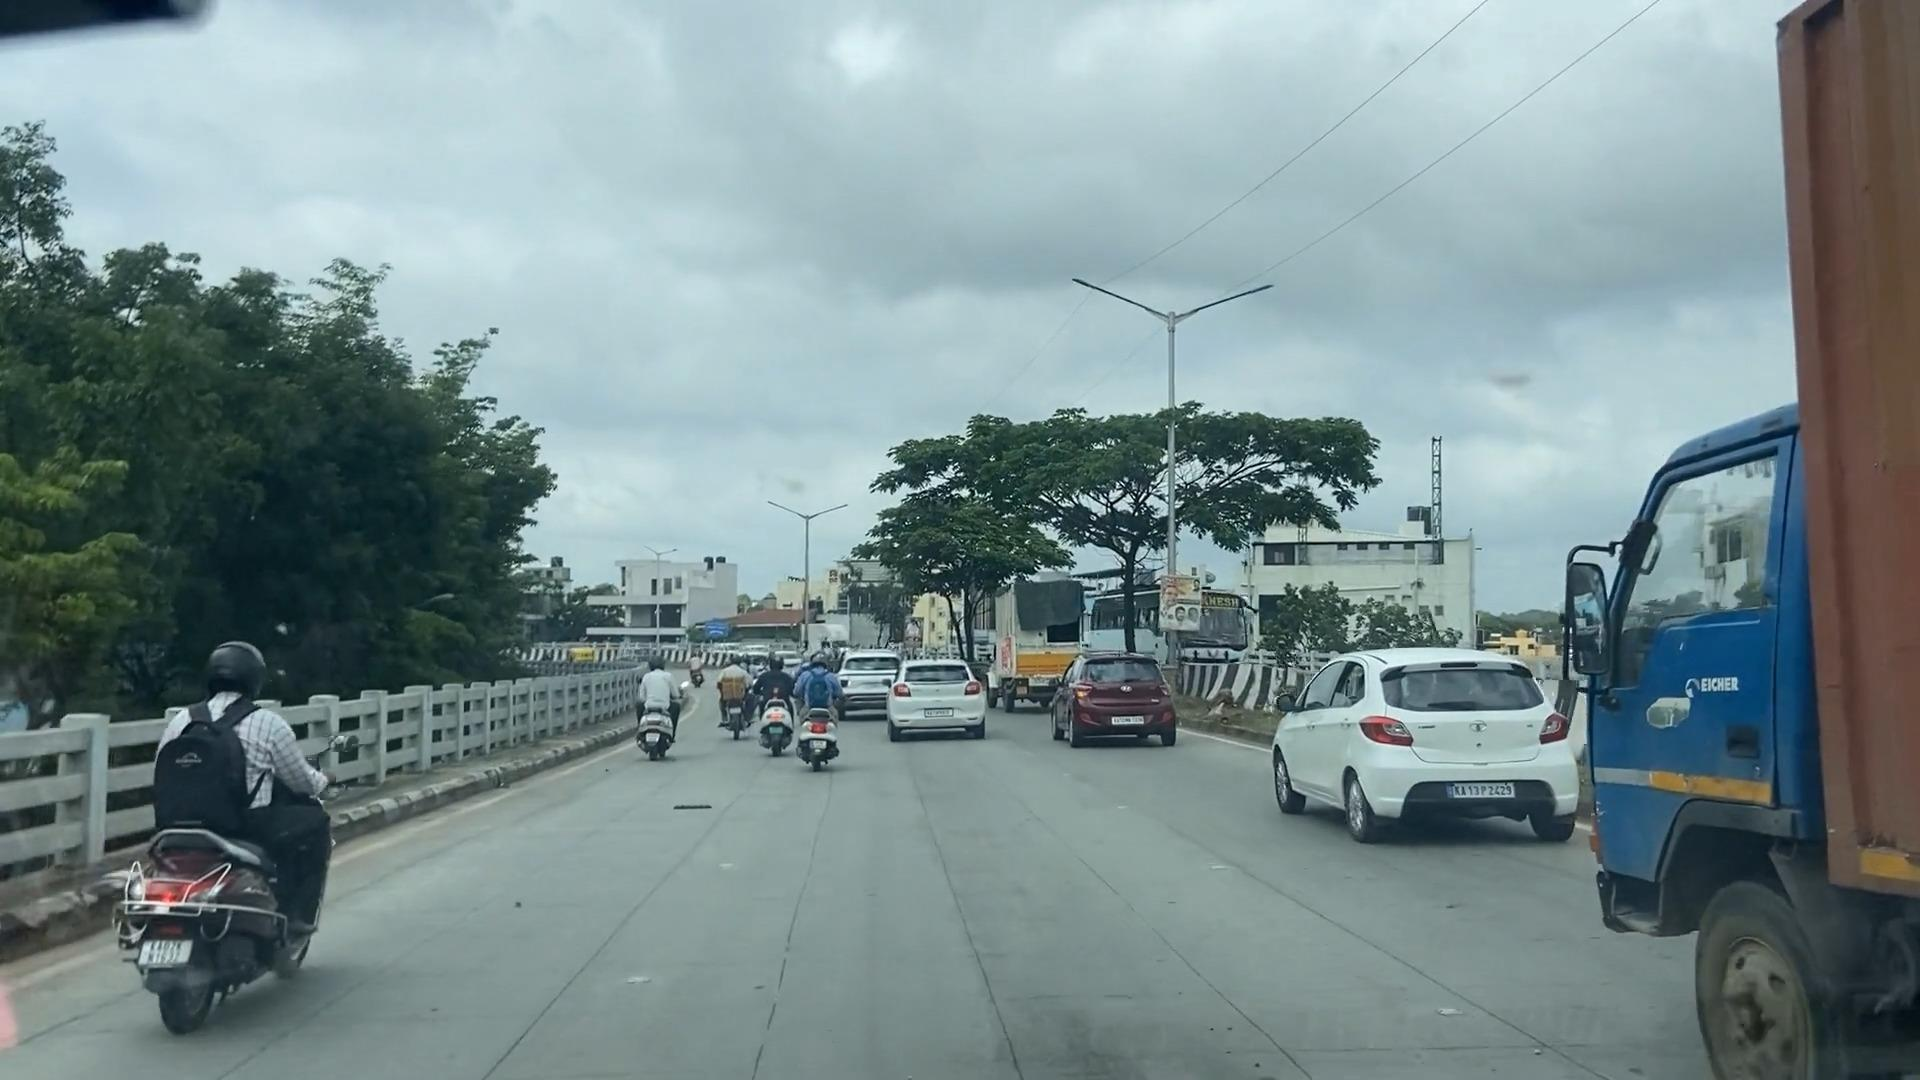LMV: (116, 654, 298, 1043), (1344, 642, 1544, 841), (1065, 646, 1166, 753), (802, 640, 862, 773), (895, 662, 978, 740), (750, 650, 802, 761), (709, 647, 758, 736), (642, 646, 675, 773)
